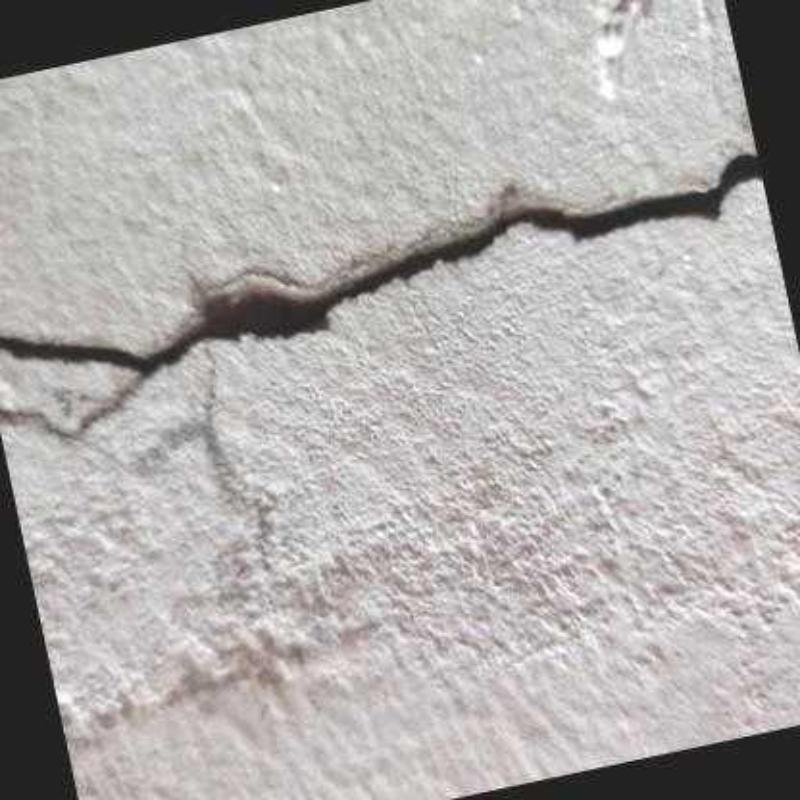pothole: (0, 152, 762, 375), (0, 371, 150, 442)
